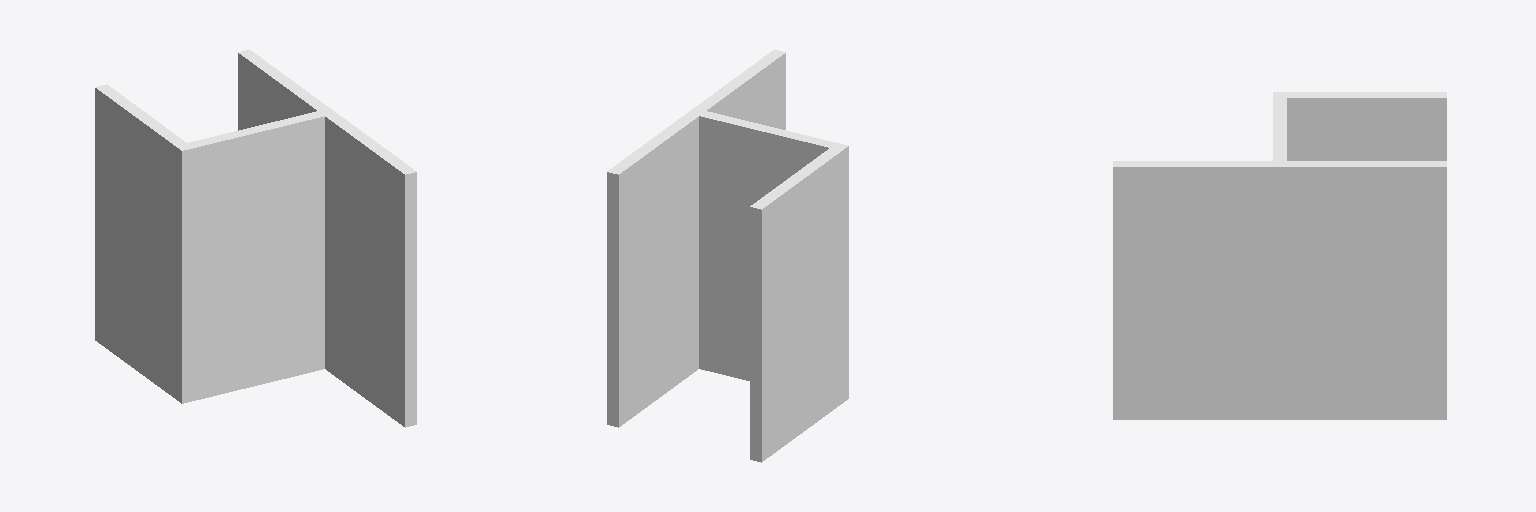
3 views of the same model, side by side, from view 1: azimuth 30°, elevation 25°; view 2: azimuth 150°, elevation 25°; view 3: azimuth 270°, elevation 25° (orthographic).
Parts seen in each view (by area): view 1: wall_2_10, wall_3_16, wall_1_4, wall_3_15, wall_3_17, wall_3_18; view 2: wall_3_16, wall_1_4, wall_2_9, wall_1_3, wall_3_15, wall_3_17, wall_3_18; view 3: wall_3_15, wall_1_3, wall_3_17, wall_3_18.
Boxes of the visible parts, <box> form: wall_2_10: <box>182,116,324,403</box>; wall_3_16: <box>238,53,410,427</box>; wall_1_4: <box>95,88,181,403</box>; wall_3_15: <box>411,172,416,425</box>; wall_3_17: <box>245,49,416,172</box>; wall_3_18: <box>238,51,410,174</box>; wall_3_16: <box>613,53,785,427</box>; wall_1_4: <box>756,146,848,462</box>; wall_2_9: <box>699,116,828,380</box>; wall_1_3: <box>750,207,755,460</box>; wall_3_15: <box>607,172,612,425</box>; wall_3_17: <box>607,49,778,172</box>; wall_3_18: <box>613,51,785,174</box>; wall_3_15: <box>1113,167,1446,419</box>; wall_1_3: <box>1287,98,1446,160</box>; wall_3_17: <box>1113,164,1446,166</box>; wall_3_18: <box>1113,161,1446,163</box>.
Size of the model in its own units: 97.79 by 152 by 183.